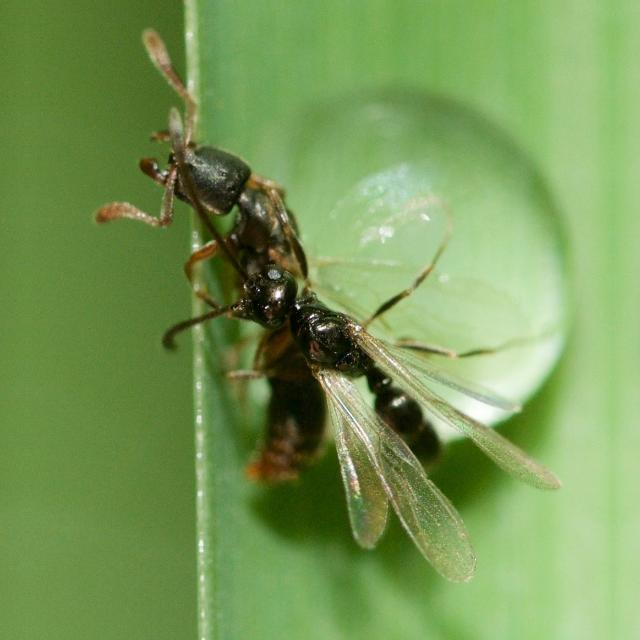Ponera: (88, 44, 346, 502), (226, 244, 482, 493)
